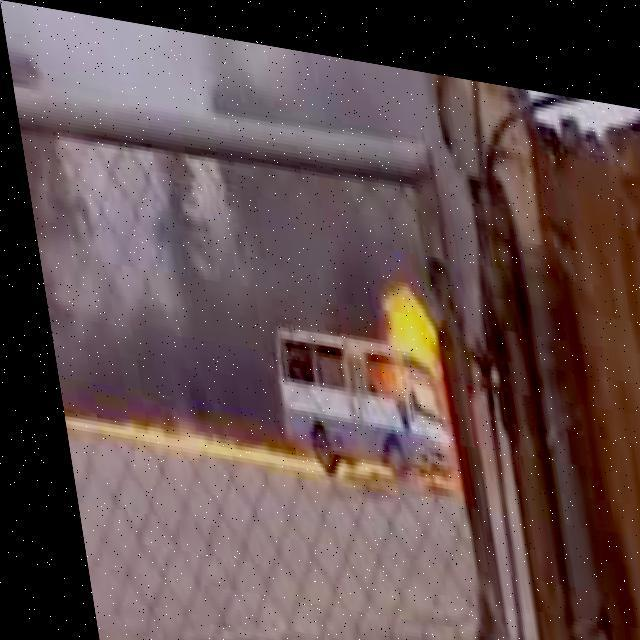Fire: (329, 260, 456, 467)
